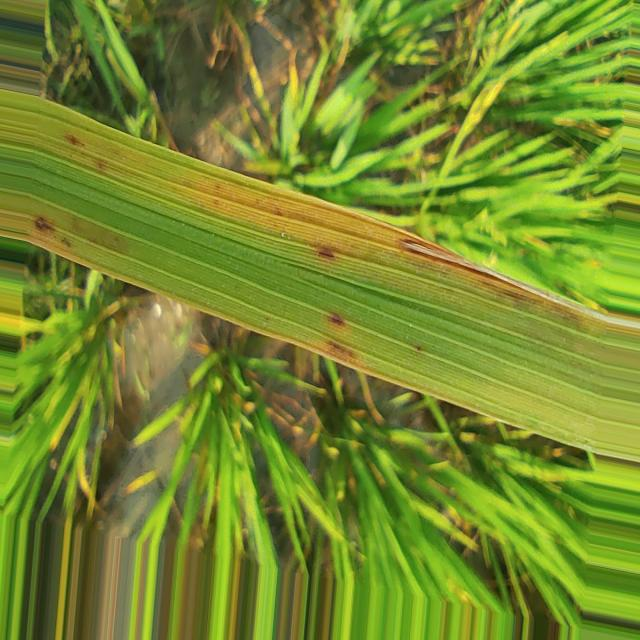Bacterial_Leaf_Blight: (391, 228, 592, 327)
Brown_Spot: (321, 340, 356, 365), (326, 308, 348, 328), (315, 241, 336, 260), (62, 132, 85, 148), (34, 217, 55, 232), (415, 343, 424, 352)
